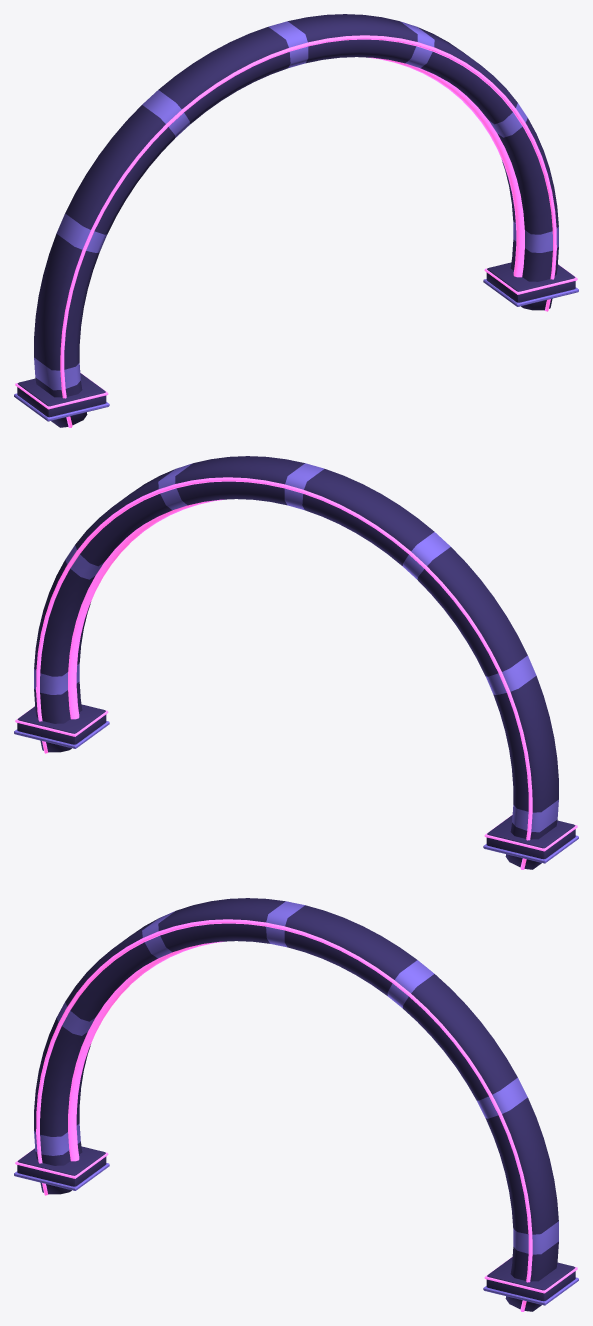
File: neon_ring_pink.glb
3 views of the same model, one above another, from view 1: azimuth 30°, elevation 25°; view 2: azimuth 150°, elevation 25°; view 3: azimuth 330°, elevation 25° (orthographic).
Parts seen in each view (by area): view 1: neon_ring_pink; view 2: neon_ring_pink; view 3: neon_ring_pink.
Boxes of the visible parts, x1,y1,x2,y2 form: neon_ring_pink: [14, 14, 578, 427]; neon_ring_pink: [14, 456, 578, 869]; neon_ring_pink: [14, 898, 578, 1311].
Bounding box in the file's own units: 32.38 × 19.42 × 3.6.
